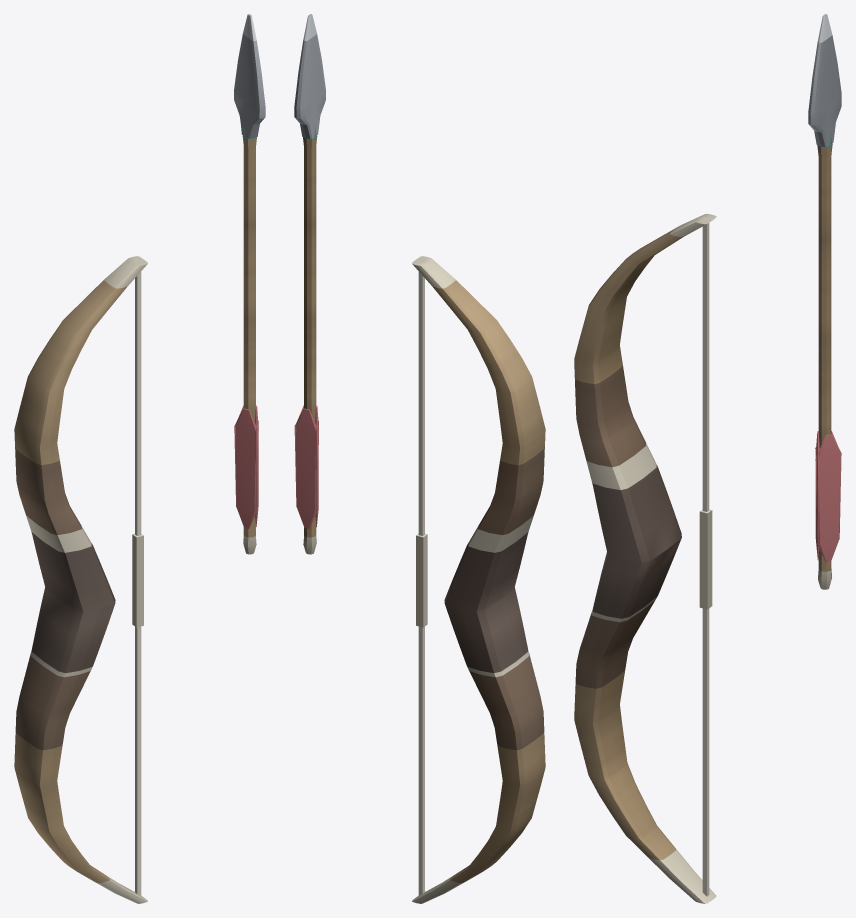
The model's file is hunters-recurve-bow.glb.
The picture shows the model from 3 angles, left to right: view 1: azimuth 30°, elevation 25°; view 2: azimuth 150°, elevation 25°; view 3: azimuth 330°, elevation 25°; orthographic projection. The views are drawn at different scales.
Visible parts, largest first — view 1: WPN_06_Bow_Recurve_Hunters__LIMB.001, WPN_06_Bow_Recurve_Hunters__STRING.001, WPN_06B_Arrow_Hunters__SHAFT.001, WPN_06B_Arrow_Hunters__HEAD.001, WPN_06B_Arrow_Hunters__FLETCHING.001; view 2: WPN_06_Bow_Recurve_Hunters__LIMB.001, WPN_06_Bow_Recurve_Hunters__STRING.001, WPN_06B_Arrow_Hunters__SHAFT.001, WPN_06B_Arrow_Hunters__HEAD.001, WPN_06B_Arrow_Hunters__FLETCHING.001; view 3: WPN_06_Bow_Recurve_Hunters__LIMB.001, WPN_06_Bow_Recurve_Hunters__STRING.001, WPN_06B_Arrow_Hunters__SHAFT.001, WPN_06B_Arrow_Hunters__FLETCHING.001, WPN_06B_Arrow_Hunters__HEAD.001.
Part boxes in pixels (x1=…): WPN_06_Bow_Recurve_Hunters__LIMB.001: x1=14, y1=256, x2=147, y2=903; WPN_06_Bow_Recurve_Hunters__STRING.001: x1=132, y1=271, x2=143, y2=895; WPN_06B_Arrow_Hunters__SHAFT.001: x1=242, y1=127, x2=256, y2=554; WPN_06B_Arrow_Hunters__HEAD.001: x1=234, y1=14, x2=265, y2=138; WPN_06B_Arrow_Hunters__FLETCHING.001: x1=234, y1=405, x2=258, y2=528; WPN_06_Bow_Recurve_Hunters__LIMB.001: x1=412, y1=256, x2=545, y2=903; WPN_06_Bow_Recurve_Hunters__STRING.001: x1=416, y1=271, x2=427, y2=895; WPN_06B_Arrow_Hunters__SHAFT.001: x1=303, y1=127, x2=317, y2=554; WPN_06B_Arrow_Hunters__HEAD.001: x1=294, y1=14, x2=325, y2=138; WPN_06B_Arrow_Hunters__FLETCHING.001: x1=294, y1=405, x2=318, y2=528; WPN_06_Bow_Recurve_Hunters__LIMB.001: x1=574, y1=214, x2=716, y2=903; WPN_06_Bow_Recurve_Hunters__STRING.001: x1=699, y1=223, x2=712, y2=896; WPN_06B_Arrow_Hunters__SHAFT.001: x1=817, y1=134, x2=832, y2=589; WPN_06B_Arrow_Hunters__FLETCHING.001: x1=815, y1=431, x2=841, y2=562; WPN_06B_Arrow_Hunters__HEAD.001: x1=808, y1=14, x2=841, y2=146.
Size of the model in its own units: 1.26 by 4.35 by 0.3663.
1 material, 1 textured.
